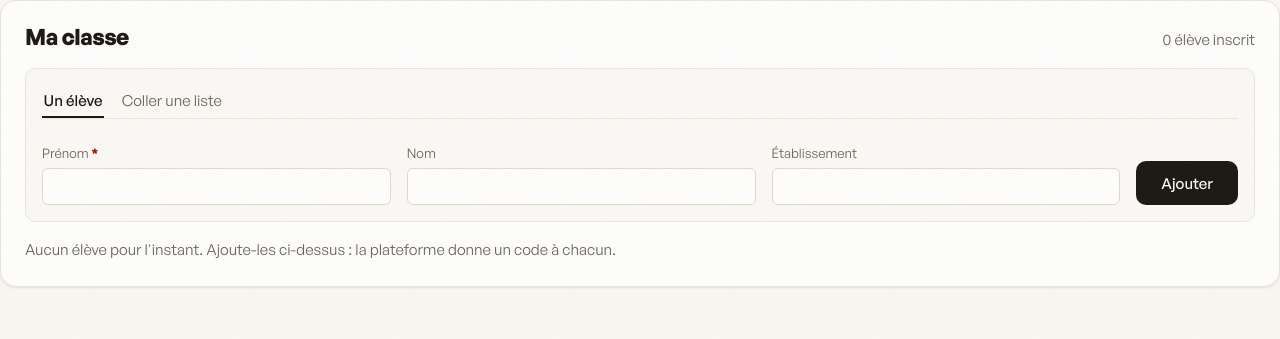
Test: Classe — corriger et retirer › dit pourquoi une écriture a échoué
expect the text "Aucun élève" is shown: met, box [25,240,616,259]
Step 1. Type "Camille" into the field labelled "Prénom *" → (216, 186), box [42,168,391,205]
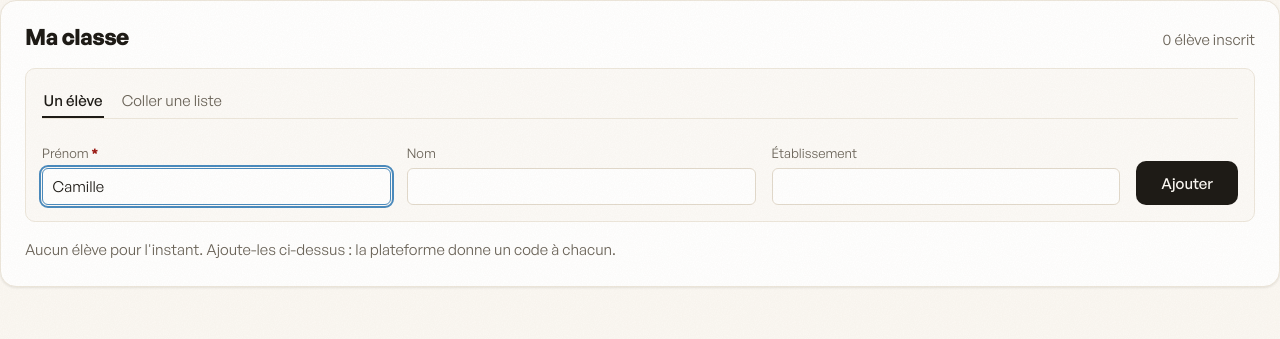
Step 2. Click the button "Ajouter" → (1187, 183), box [1136,161,1238,205]
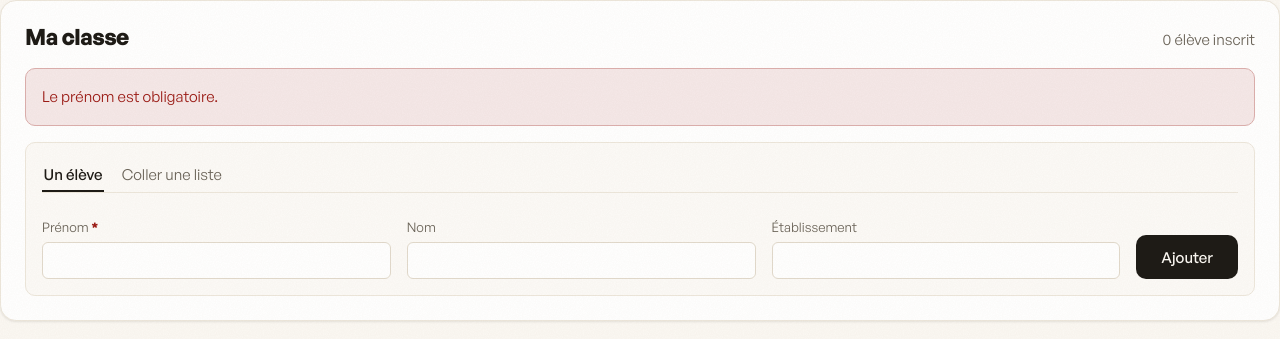
expect the message shows "prénom est obligatoire": met, box [42,87,218,106]
